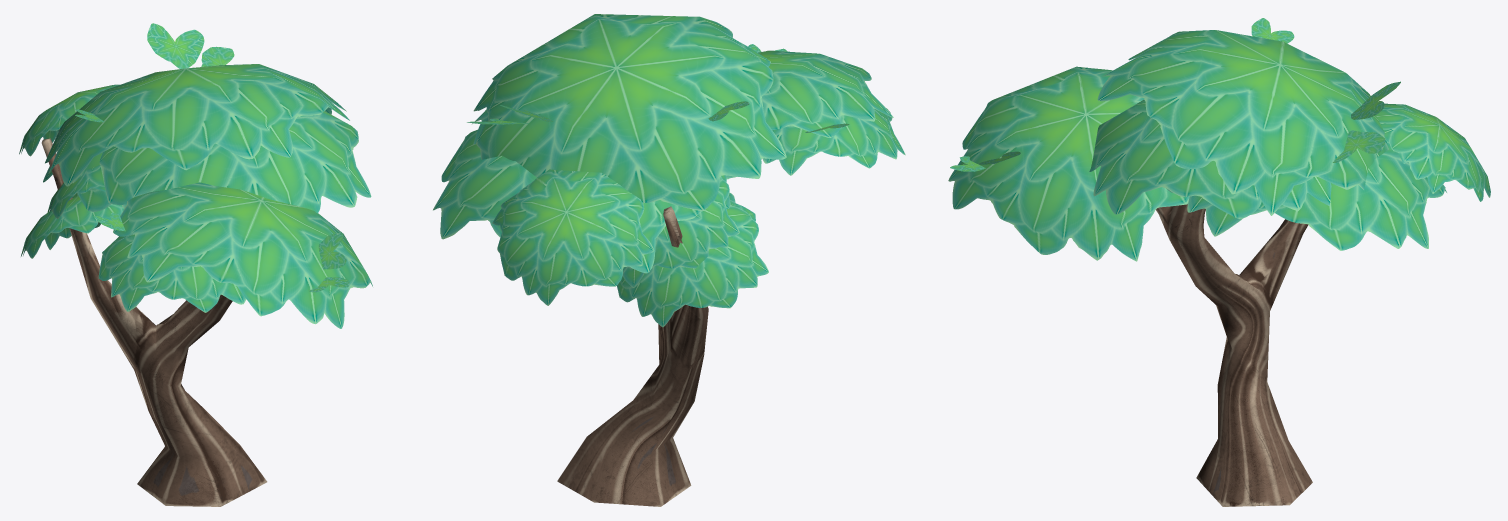
File: Tree1.fbx
3 views of the same model, side by side, from view 1: azimuth 30°, elevation 25°; view 2: azimuth 150°, elevation 25°; view 3: azimuth 270°, elevation 25° (orthographic). The views are drawn at different scales.
Parts seen in each view (by area): view 1: treeLp1; view 2: treeLp1; view 3: treeLp1.
Boxes of the visible parts, bbox=[...] form: treeLp1: bbox=[19, 23, 372, 506]; treeLp1: bbox=[433, 14, 905, 506]; treeLp1: bbox=[948, 18, 1490, 506].
Size of the model in its own units: 880 by 1037 by 1221.
